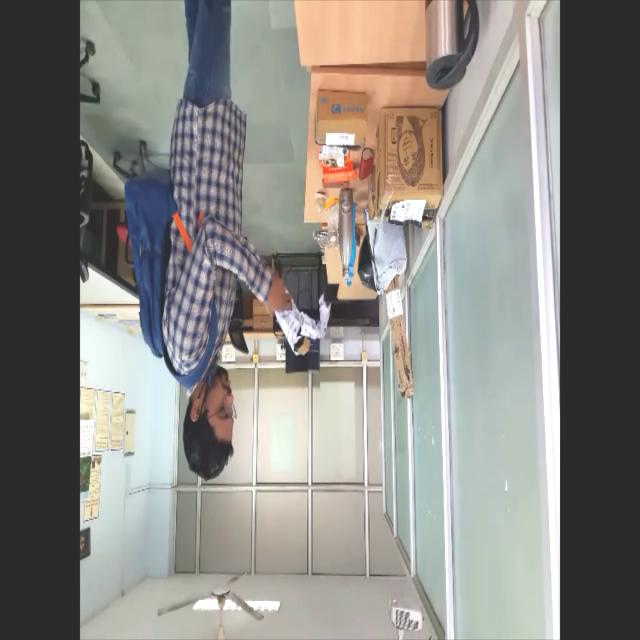normal: (118, 2, 330, 488)
